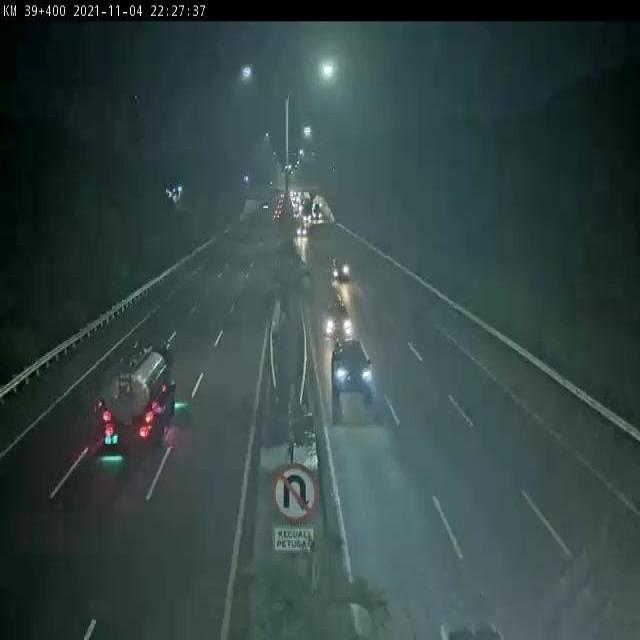car: (330, 340, 374, 396), (322, 303, 350, 336)
truck-l-: (96, 344, 169, 445)
